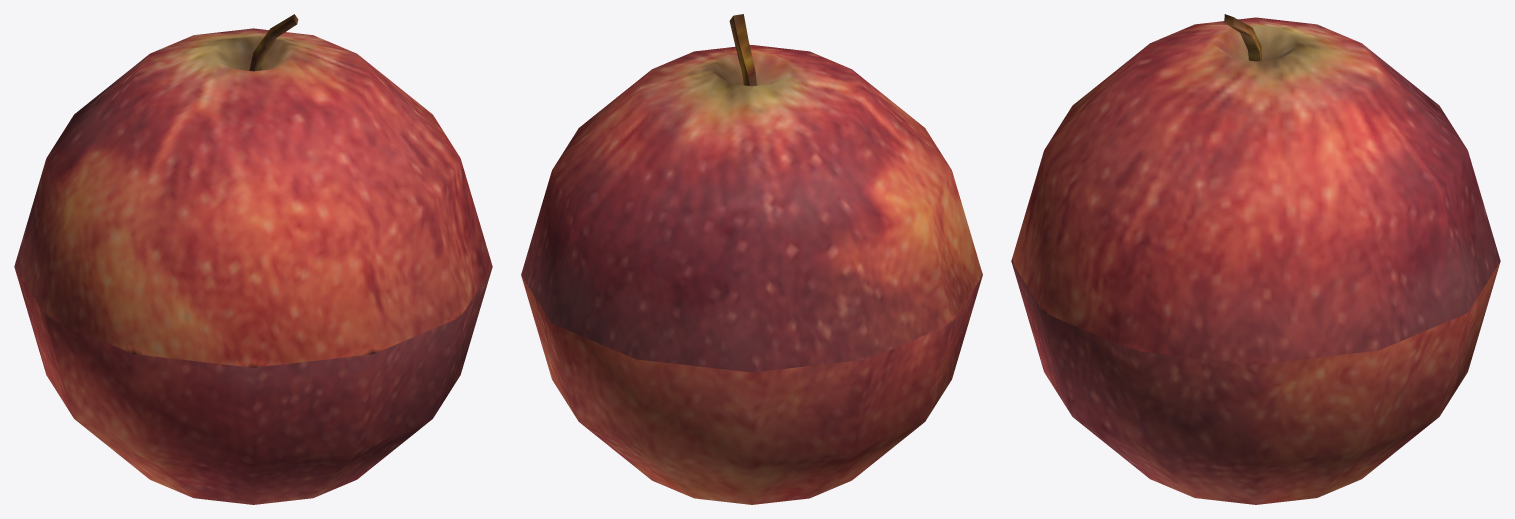
The model's file is Apple.FBX.
3 renders of one model, left to right at view 1: azimuth 30°, elevation 25°; view 2: azimuth 150°, elevation 25°; view 3: azimuth 270°, elevation 25°, orthographic. The views are drawn at different scales.
Parts seen in each view (by area): view 1: Apple; view 2: Apple; view 3: Apple.
Part boxes in pixels (x1,y1,x2,y2): Apple: [14, 14, 492, 504]; Apple: [521, 14, 982, 504]; Apple: [1011, 14, 1500, 504].
Size of the model in its own units: 4.1 by 4.4 by 4.1.
